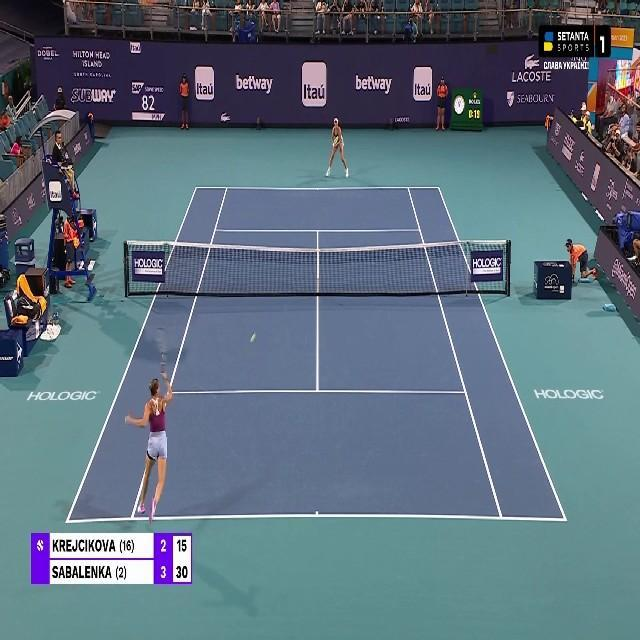left side: (66, 187, 227, 522), (408, 188, 567, 520)
player: (126, 368, 180, 522), (324, 116, 350, 178)
